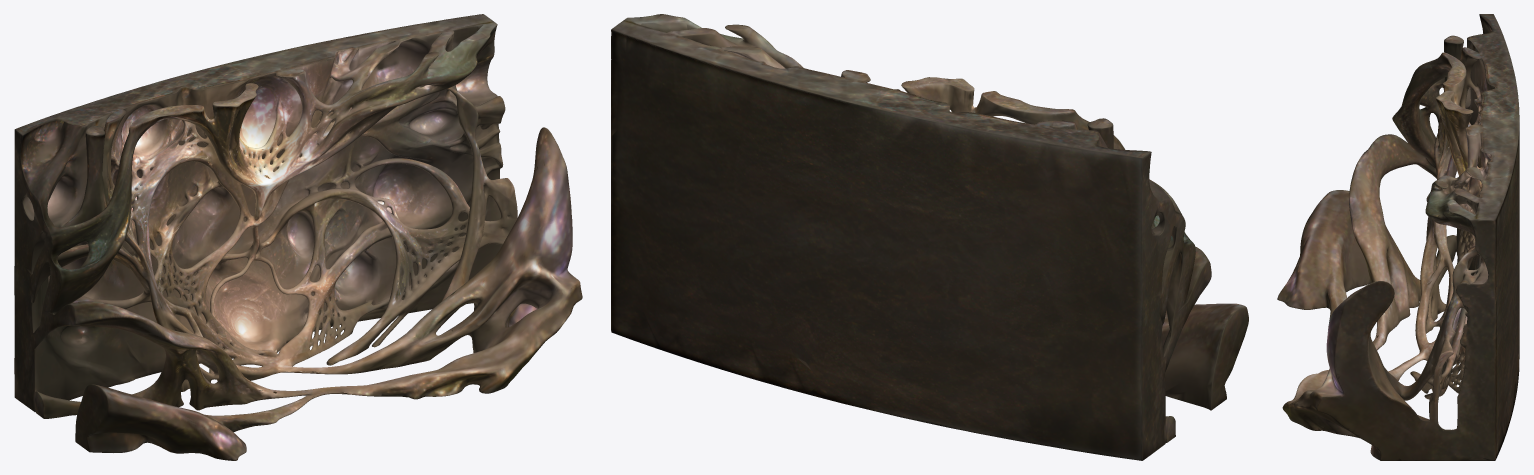
File: descent.glb
3 renders of one model, left to right at view 1: azimuth 30°, elevation 25°; view 2: azimuth 150°, elevation 25°; view 3: azimuth 270°, elevation 25°, orthographic. The views are drawn at different scales.
Visible parts, largest first — view 1: tripo_node_2c56e40a-74bf-403e-9d1c-191def36cbaf; view 2: tripo_node_2c56e40a-74bf-403e-9d1c-191def36cbaf; view 3: tripo_node_2c56e40a-74bf-403e-9d1c-191def36cbaf.
Boxes of the visible parts, left/top/right/bottom form: tripo_node_2c56e40a-74bf-403e-9d1c-191def36cbaf: left=14, top=14, right=582, bottom=460; tripo_node_2c56e40a-74bf-403e-9d1c-191def36cbaf: left=611, top=14, right=1248, bottom=460; tripo_node_2c56e40a-74bf-403e-9d1c-191def36cbaf: left=1277, top=14, right=1519, bottom=460.
Bounding box in the file's own units: 0.9806 × 0.5363 × 0.4862.
Materials: 1 (1 with a texture image).
